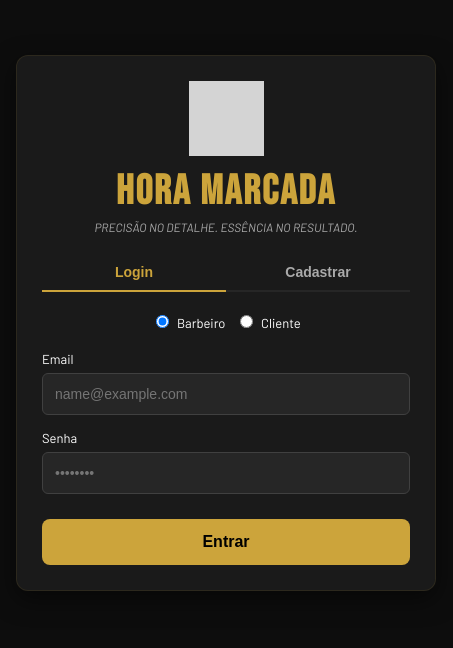
Scenario: Login Component › deve permitir alternar para a aba de cadastro
This screenshot has width=453, height=648.
Click the button "Cadastrar".
click(318, 272)  # box [226,254,410,290]
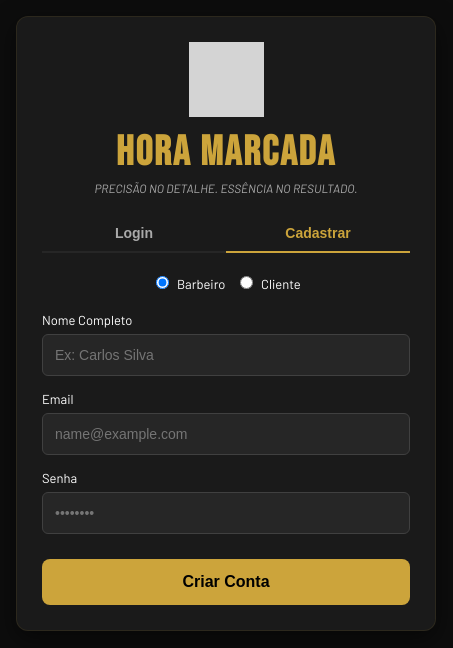
Expected: the text "Nome Completo" is shown, [42,312,132,328]
